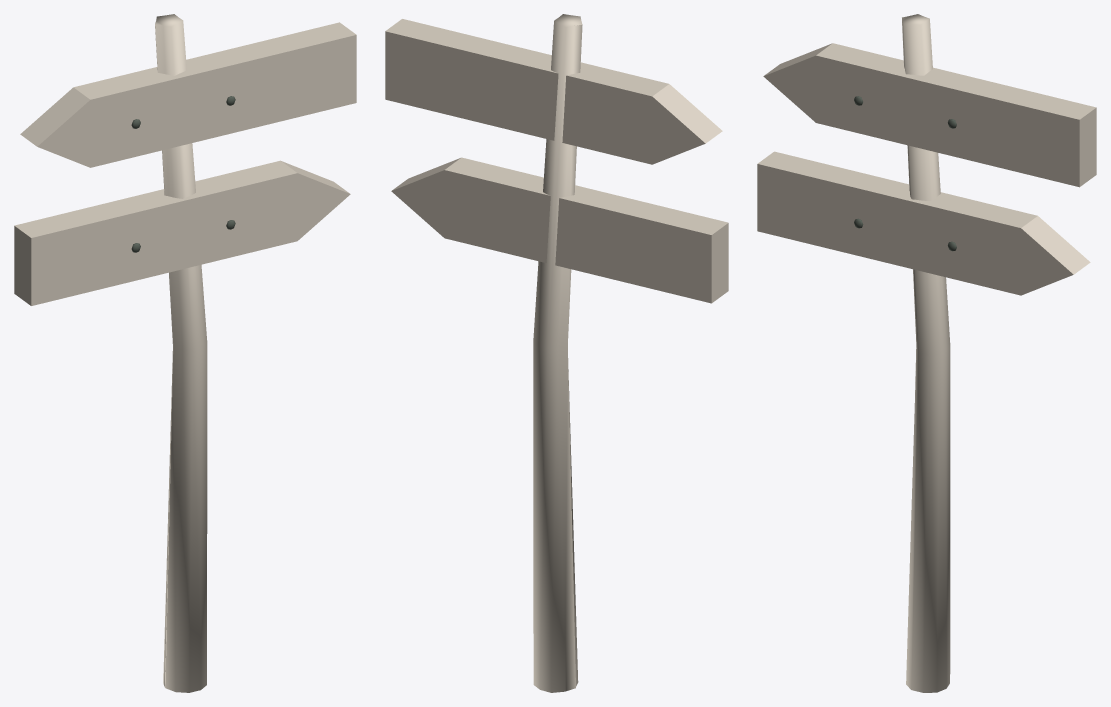
File: SM_WLA_Signpost_A.fbx
3 renders of one model, left to right at view 1: azimuth 30°, elevation 25°; view 2: azimuth 150°, elevation 25°; view 3: azimuth 330°, elevation 25°, orthographic.
Parts seen in each view (by area): view 1: SM_WLA_Signpost_A; view 2: SM_WLA_Signpost_A; view 3: SM_WLA_Signpost_A.
Part boxes in pixels (x1,y1,x2,y2): SM_WLA_Signpost_A: [14, 14, 356, 692]; SM_WLA_Signpost_A: [385, 14, 728, 692]; SM_WLA_Signpost_A: [757, 14, 1096, 692].
Size of what is drawn, in the model's own units: 0.1345 by 1.1 by 2.15.
